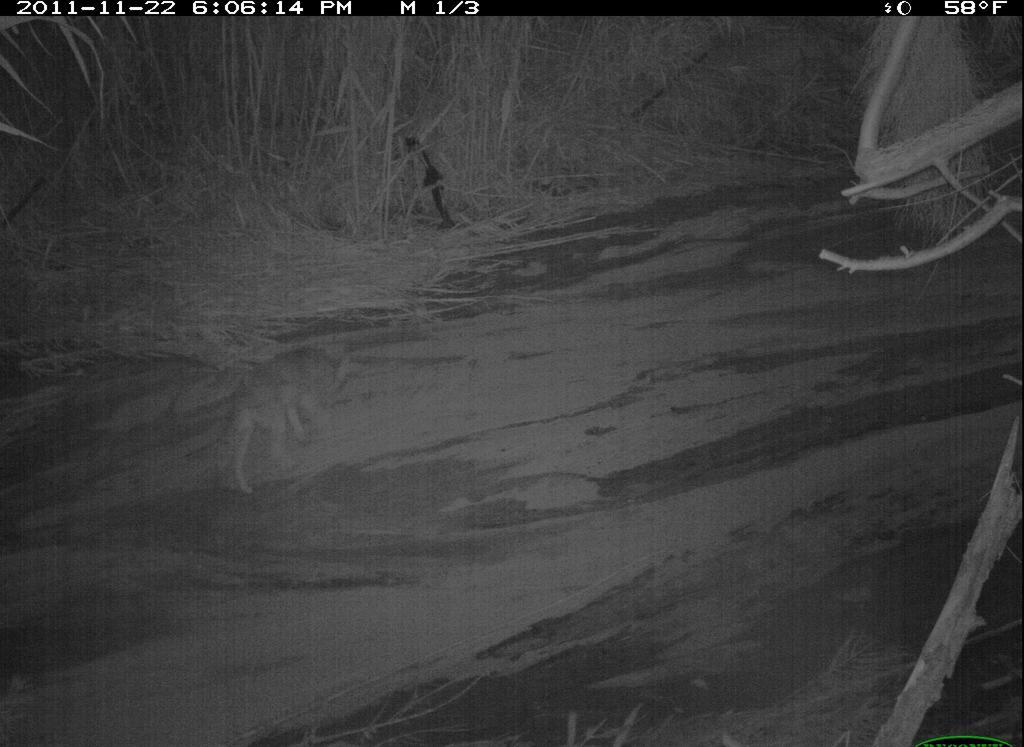coyote: (182, 337, 359, 507)
